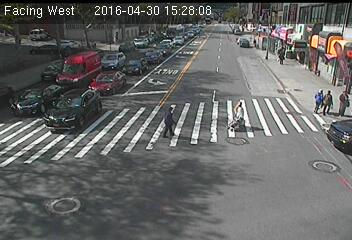neg: (53, 181, 80, 217), (49, 46, 71, 76), (322, 27, 343, 56), (284, 144, 304, 171), (32, 140, 51, 165), (150, 61, 168, 86), (241, 160, 259, 184), (150, 12, 167, 36), (113, 47, 130, 69), (233, 14, 249, 36), (141, 179, 157, 200), (205, 45, 219, 63)
pos: (154, 103, 181, 139), (223, 95, 249, 130), (331, 83, 351, 117), (305, 84, 327, 112), (318, 86, 339, 115), (275, 49, 288, 67)
